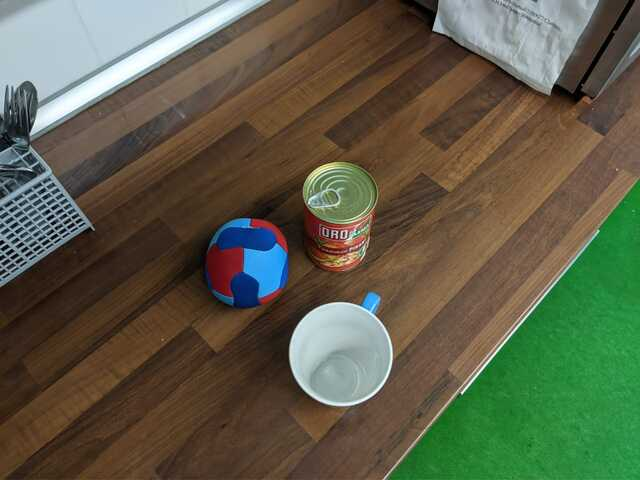005_tomato_soup_can: (299, 158, 381, 276)
025_mug: (287, 290, 402, 410)
057_racquetball: (200, 215, 292, 312)
